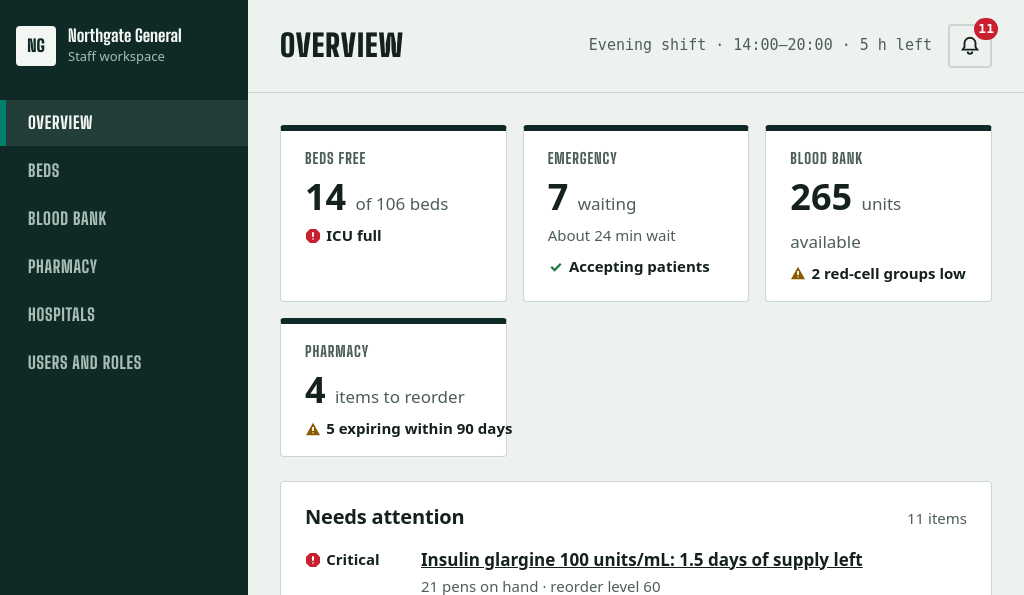
Staff workspace: negative cases (LAND-N) › LAND-N06 every navigation link goes to a real page
Click the link "Beds".
click(44, 170)  # box [28,160,60,181]
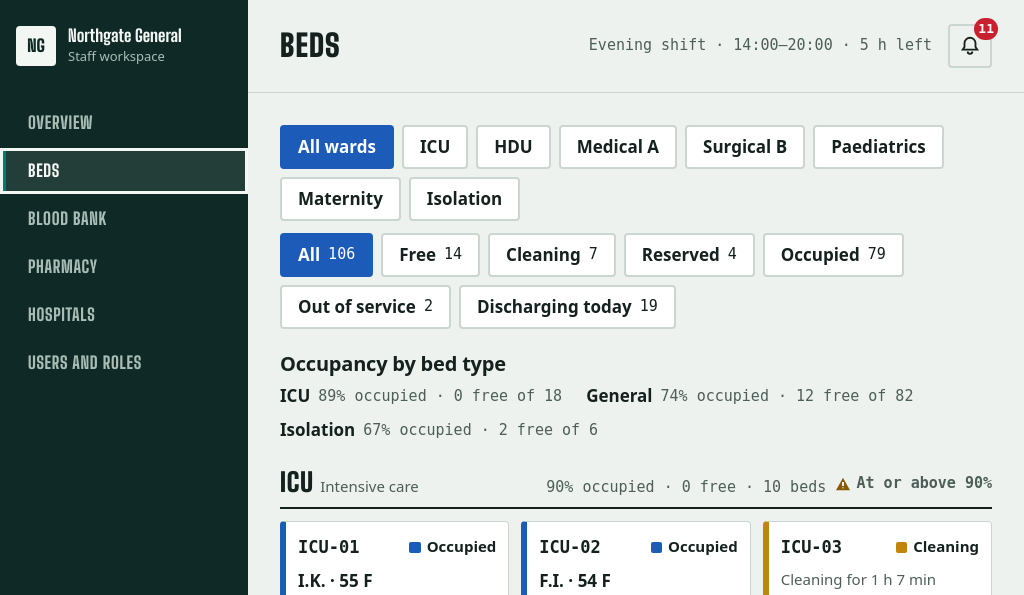
Expected: the heading "Beds" is shown, [280,29,340,63]
Click the link "Blood bank".
click(68, 218)  # box [28,208,107,229]
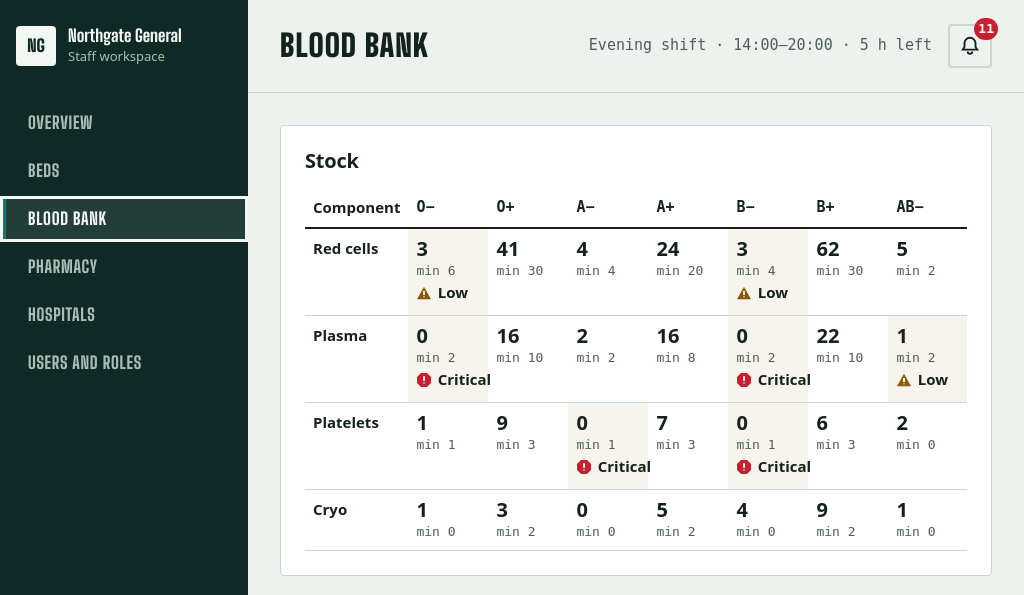
Expected: the heading "Blood bank" is shown, [280,29,429,63]
Click the link "Pharmacy".
click(63, 266)  # box [28,256,98,277]
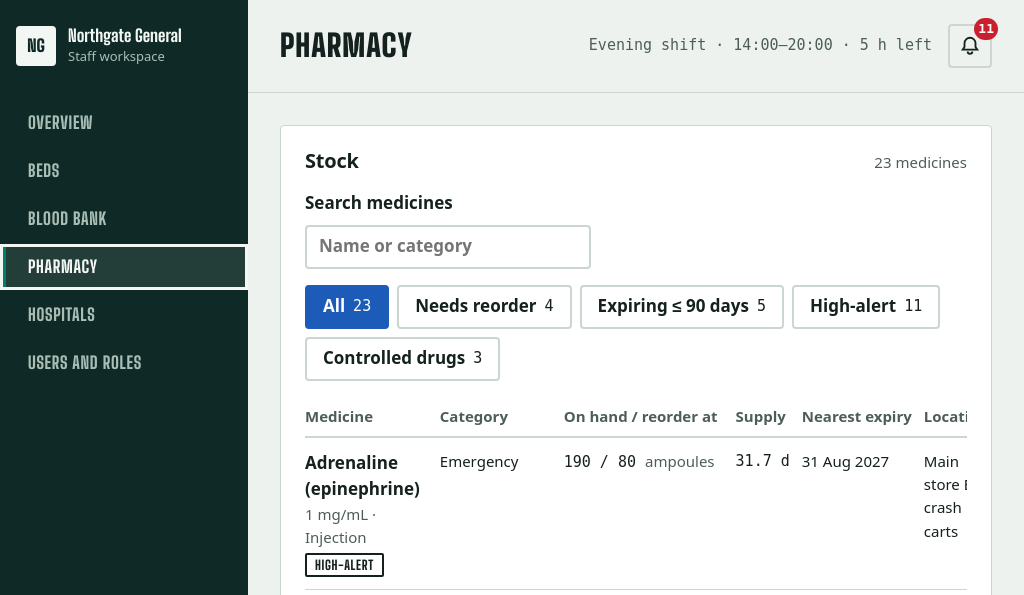
Expected: the heading "Pharmacy" is shown, [280,29,413,63]
Click the link "Hospitals".
click(62, 314)  # box [28,304,96,325]
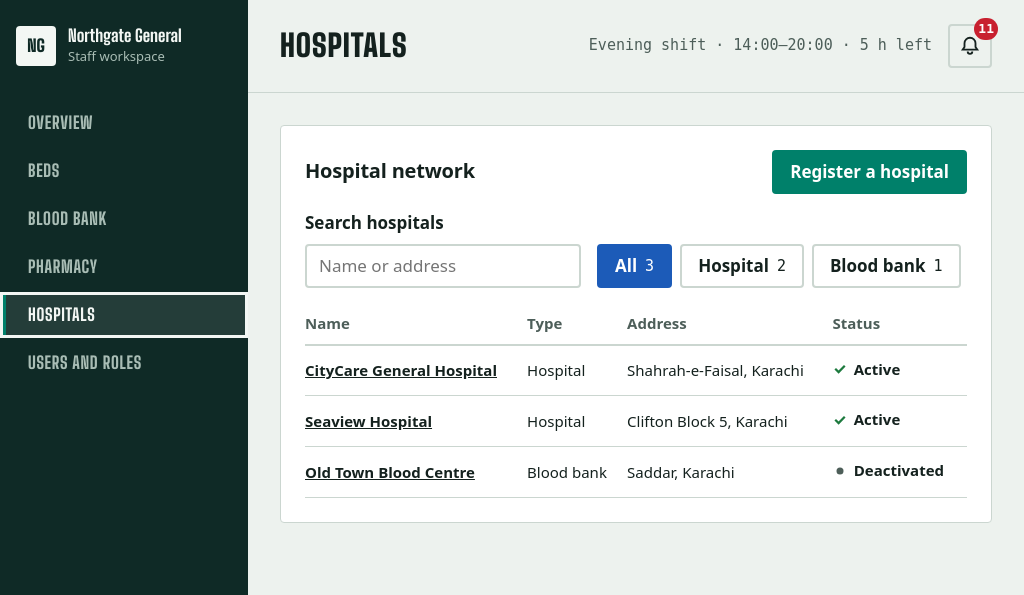
Expected: the heading "Hospitals" is shown, [280,29,408,63]
Click the link "Users and roles".
click(85, 362)  # box [28,352,142,373]
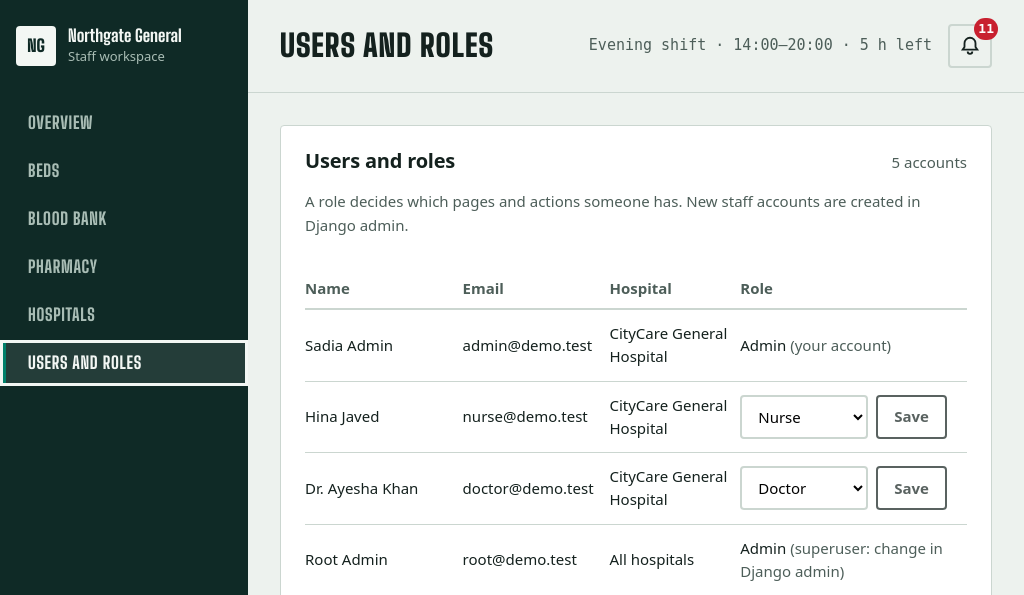
Expected: the heading "Users and roles" next to "Evening shift · 14:00–20:00 · 5 h left" is shown, [280,29,494,63]
Click the link "Overview".
click(61, 122)  # box [28,112,93,133]
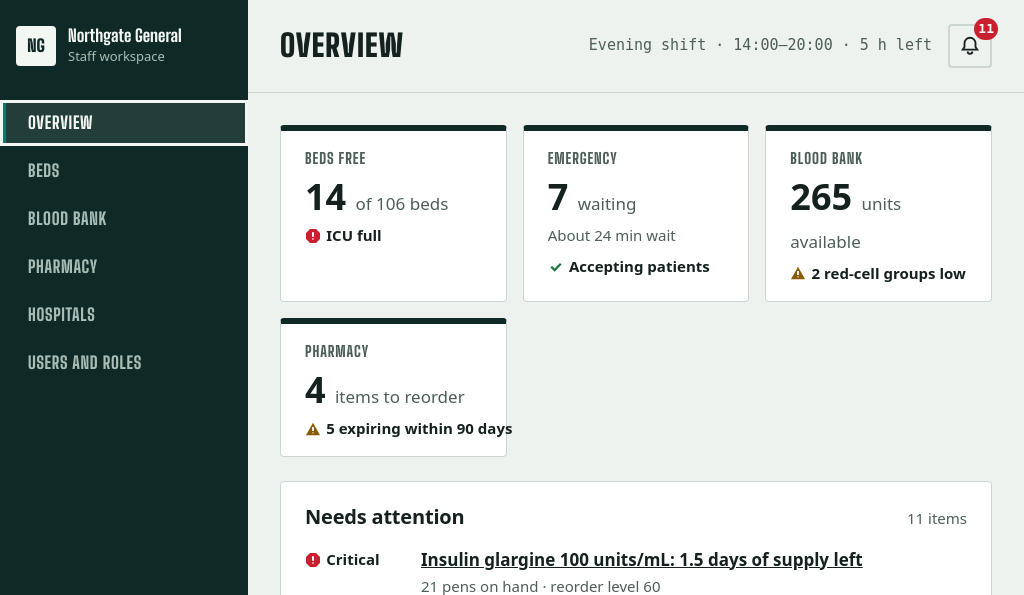
Expected: the heading "Overview" is shown, [280,29,404,63]
